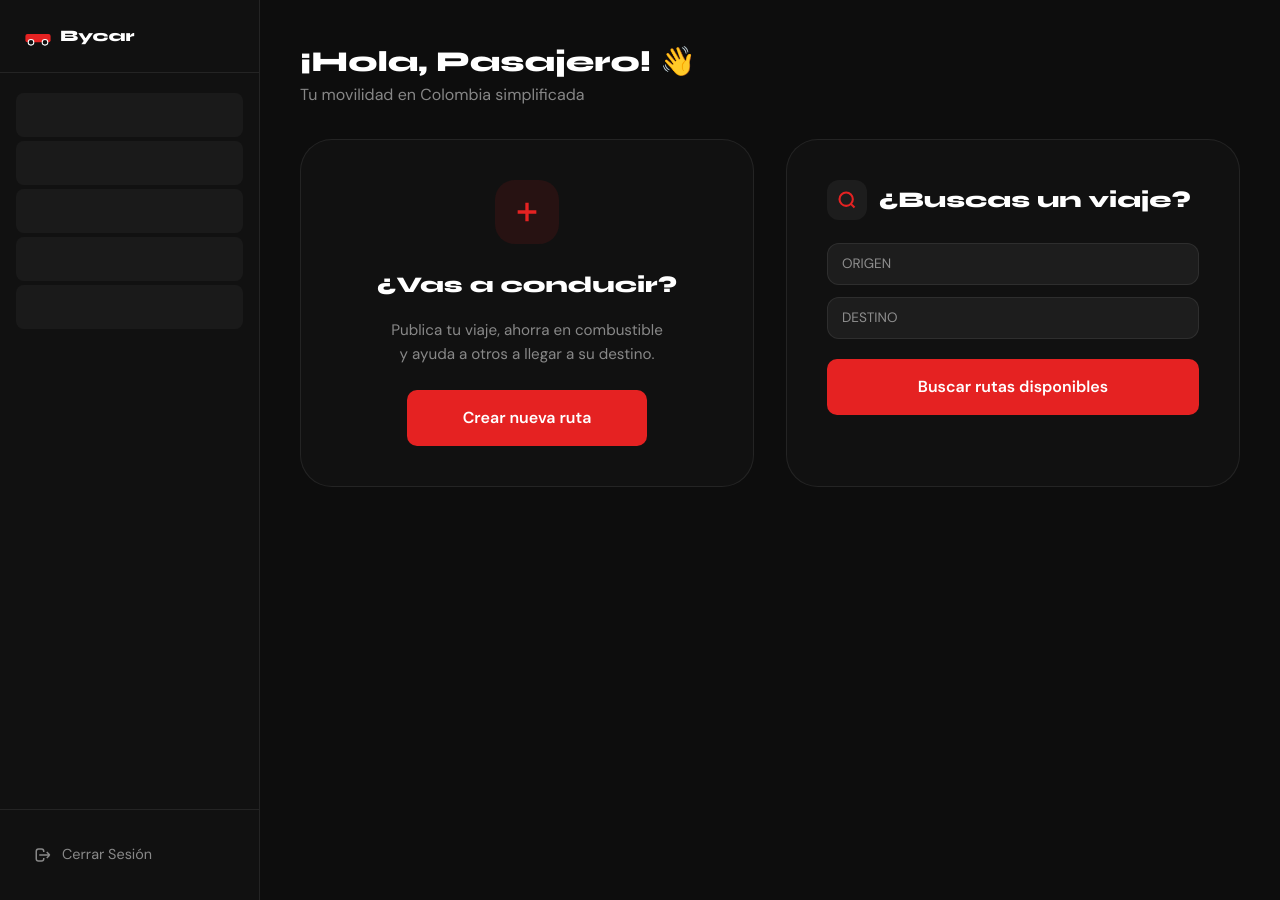
Test case: Dashboard · carga inicial (caracterización) › los municipios aceptan las columnas de Oracle (ID_MUN / NOMBRE_MUN)
The image size is (1280, 900).
Type "pere" into the field with placeholder "Origen" at (1013, 264), box [827,243,1199,285]
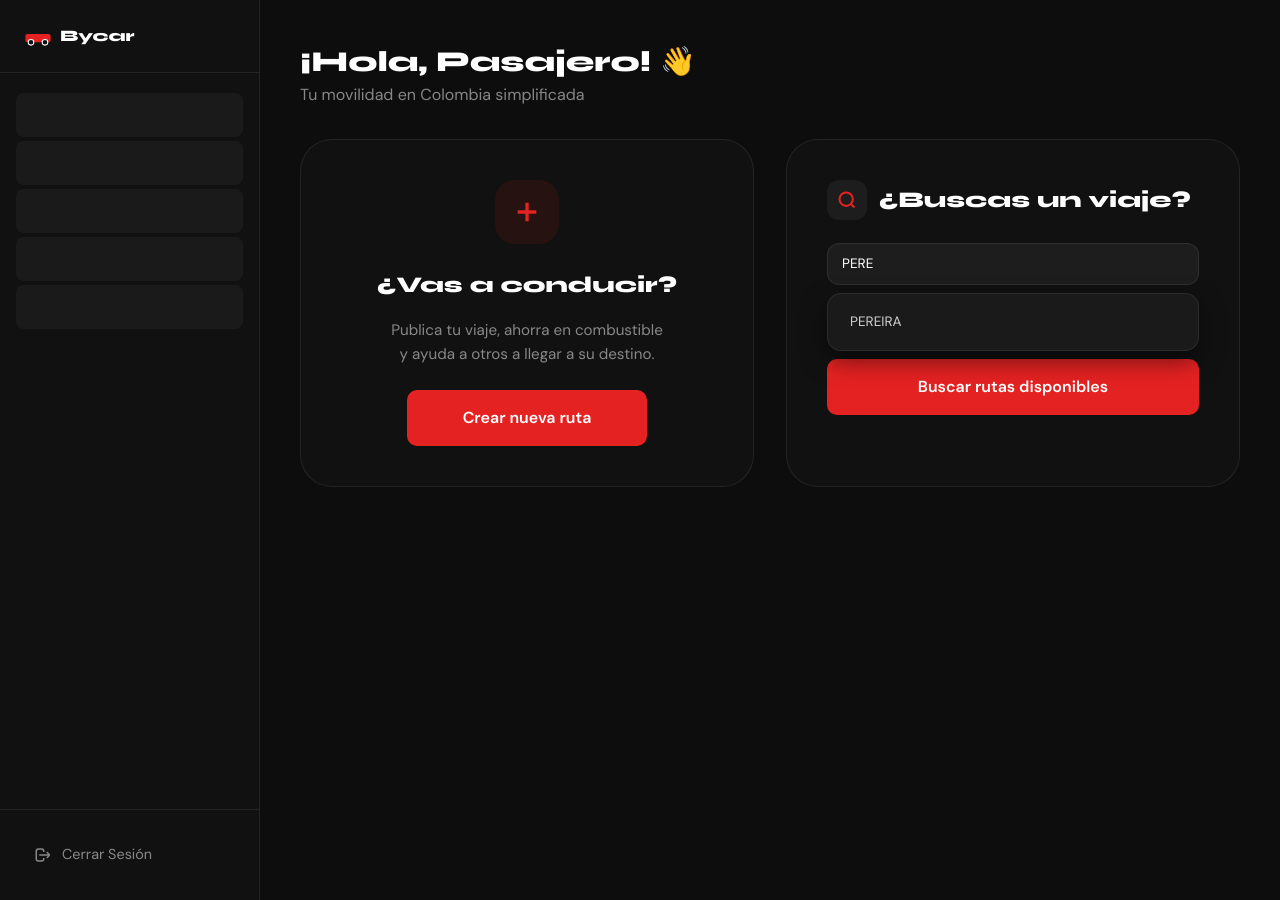
Check: the list item "PEREIRA" is shown, box [850,313,902,330]
